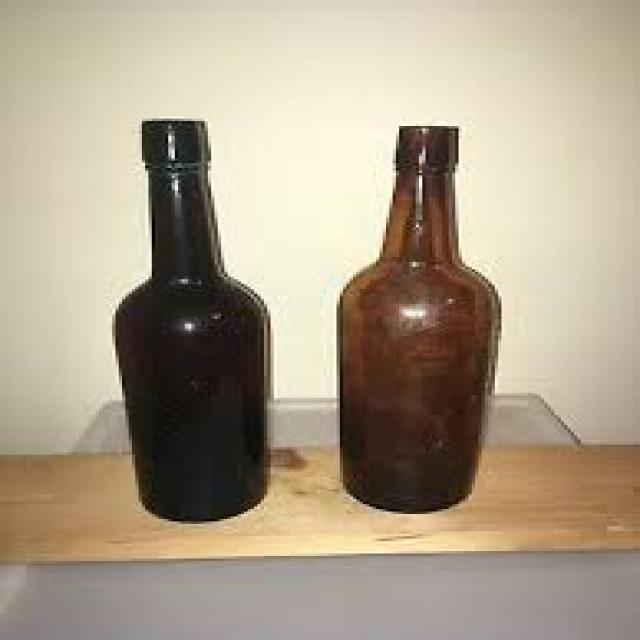Glass: (107, 116, 276, 528), (329, 123, 501, 514)
